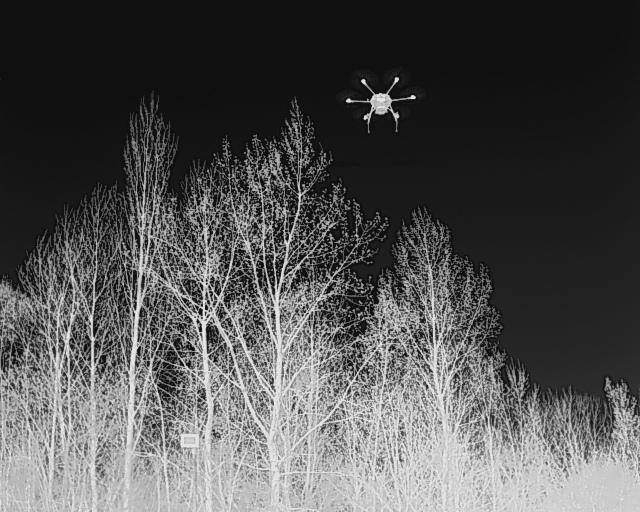drone: (336, 72, 428, 151)
